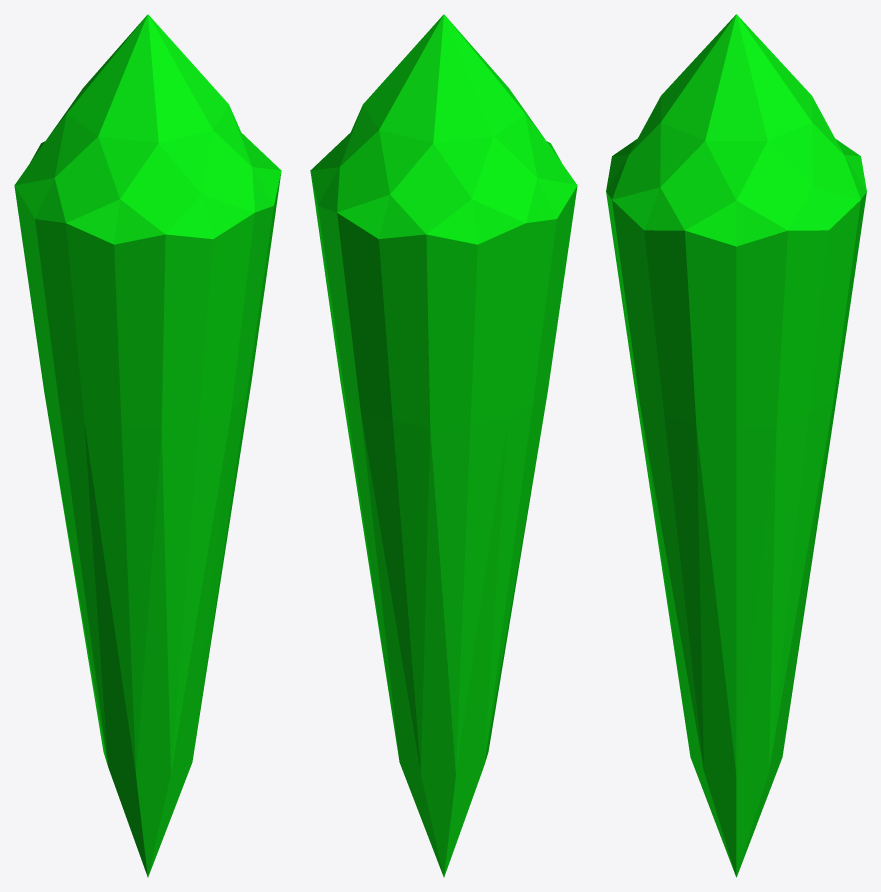
The model's file is greenCristal.fbx.
The picture shows the model from 3 angles, left to right: view 1: azimuth 30°, elevation 25°; view 2: azimuth 150°, elevation 25°; view 3: azimuth 270°, elevation 25°; orthographic projection.
Visible parts, largest first — view 1: Cylinder001; view 2: Cylinder001; view 3: Cylinder001.
Part boxes in pixels (x1=…): Cylinder001: x1=14, y1=14, x2=281, y2=877; Cylinder001: x1=310, y1=14, x2=577, y2=877; Cylinder001: x1=606, y1=14, x2=866, y2=877.
Bounding box in the file's own units: 22.14 × 80.9 × 22.14.
